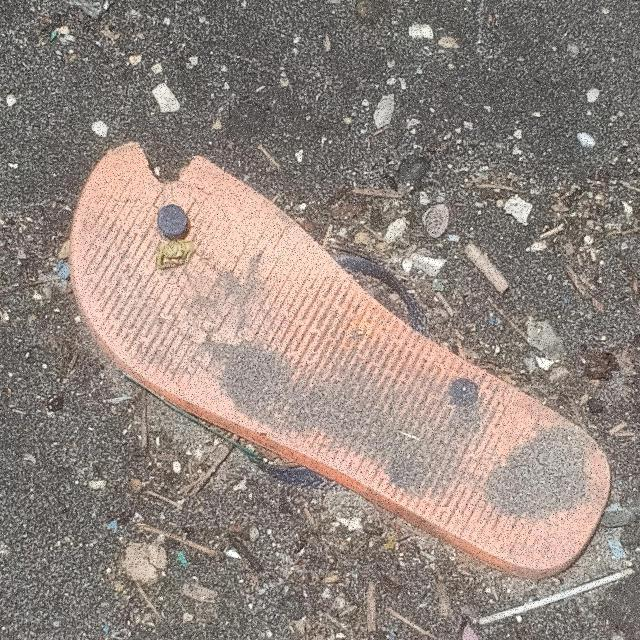rubber_waste: (71, 143, 613, 582)
